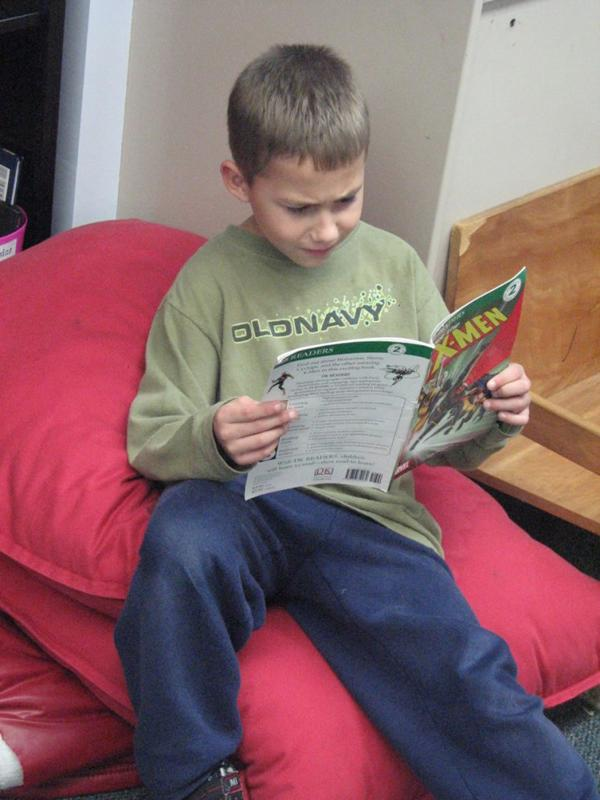person: (116, 46, 600, 800)
